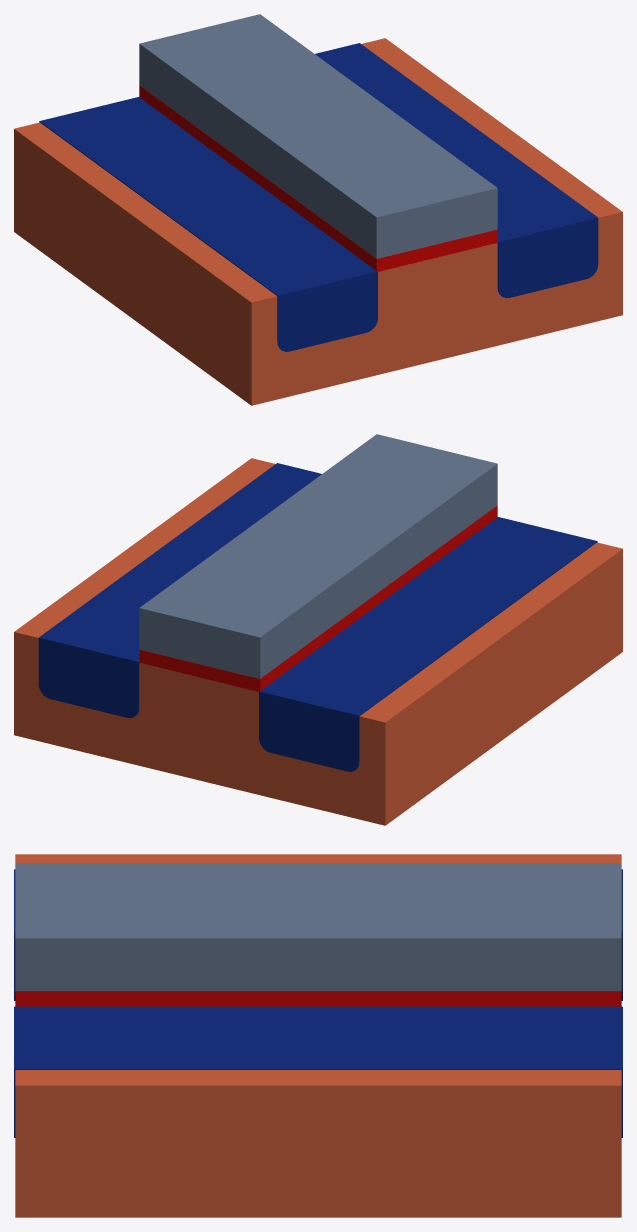
File: Mo hinh kenh dai.fbx
3 views of the same model, one above another, from view 1: azimuth 30°, elevation 25°; view 2: azimuth 150°, elevation 25°; view 3: azimuth 270°, elevation 25° (orthographic). The views are drawn at different scales.
Visible parts, largest first — view 1: mos kenh dai; view 2: mos kenh dai; view 3: mos kenh dai.
Part boxes in pixels (<box>): mos kenh dai: <box>14,14,622,405</box>; mos kenh dai: <box>14,434,622,825</box>; mos kenh dai: <box>14,854,622,1217</box>.
Bounding box in the file's own units: 1668 × 1856 × 677.
